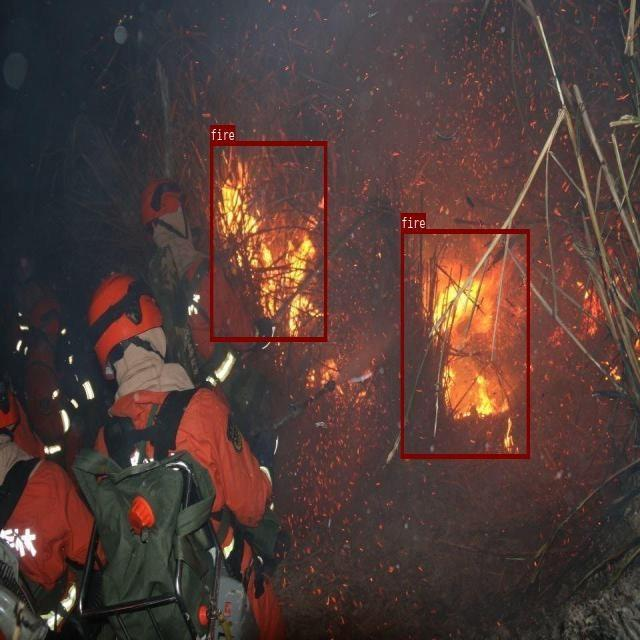fire: (401, 229, 530, 458), (210, 140, 326, 341)
